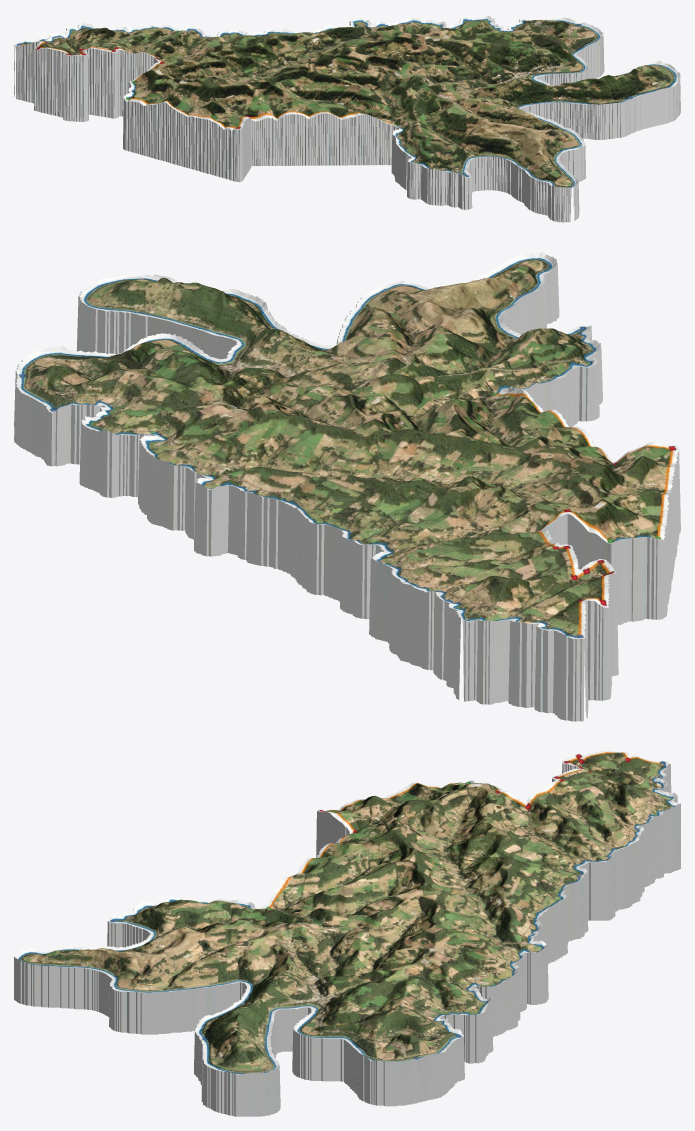
The picture shows the model from 3 angles, top to bottom: view 1: azimuth 30°, elevation 25°; view 2: azimuth 150°, elevation 25°; view 3: azimuth 270°, elevation 25°; orthographic projection. The views are drawn at different scales.
Size of the model in its own units: 0.9999 by 0.1287 by 0.9655.
Materials: 1 (1 with a texture image).
